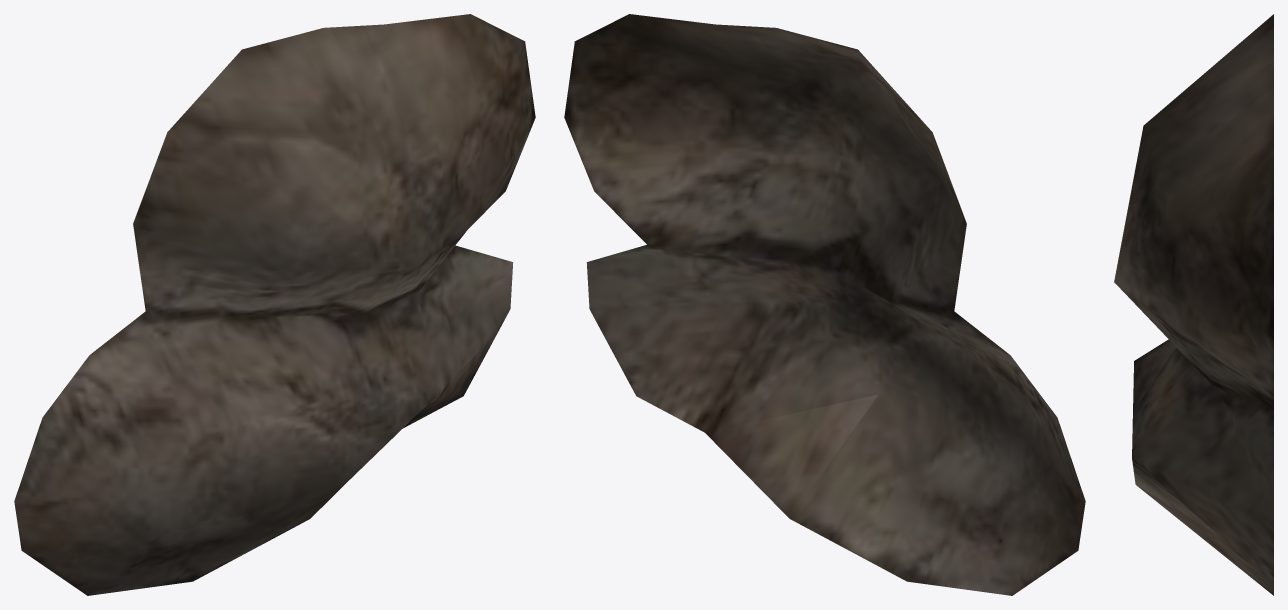
The model's file is prop_toujane_roadrock7.glb.
The picture shows the model from 3 angles, left to right: view 1: azimuth 30°, elevation 25°; view 2: azimuth 150°, elevation 25°; view 3: azimuth 270°, elevation 25°; orthographic projection. The views are drawn at different scales.
Bounding box in the file's own units: 21.1 × 20.18 × 5.
Materials: 1 (1 with a texture image).
